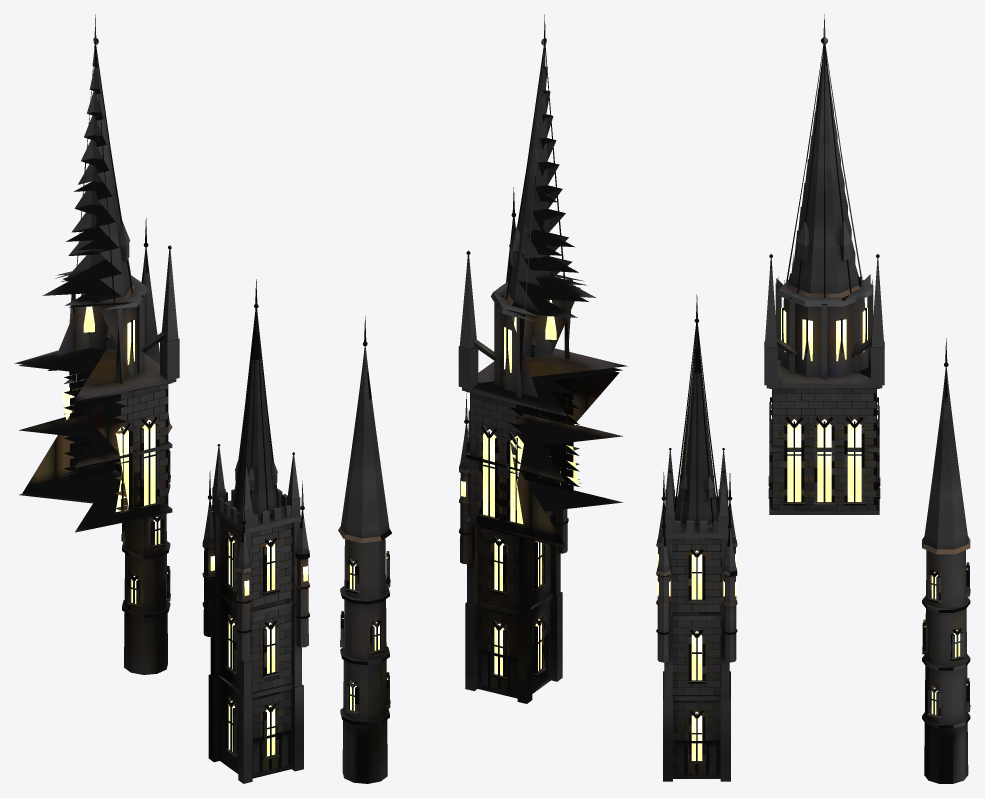
The model's file is gothic_towers-east-GI.glb.
3 views of the same model, side by side, from view 1: azimuth 30°, elevation 25°; view 2: azimuth 150°, elevation 25°; view 3: azimuth 270°, elevation 25° (orthographic). The views are drawn at different scales.
Parts seen in each view (by area): view 1: main.001, glow.001; view 2: main.001, glow.001; view 3: main.001, glow.001.
Boxes of the visible parts, left/top/right/bottom form: main.001: left=14, top=14, right=309, bottom=783; glow.001: left=62, top=306, right=307, bottom=756; main.001: left=338, top=14, right=627, bottom=783; glow.001: left=342, top=299, right=578, bottom=710; main.001: left=656, top=14, right=970, bottom=783; glow.001: left=657, top=308, right=967, bottom=760.
Bounding box in the file's own units: 18.09 × 67.4 × 27.08.
Materials: 2 (1 with a texture image).
